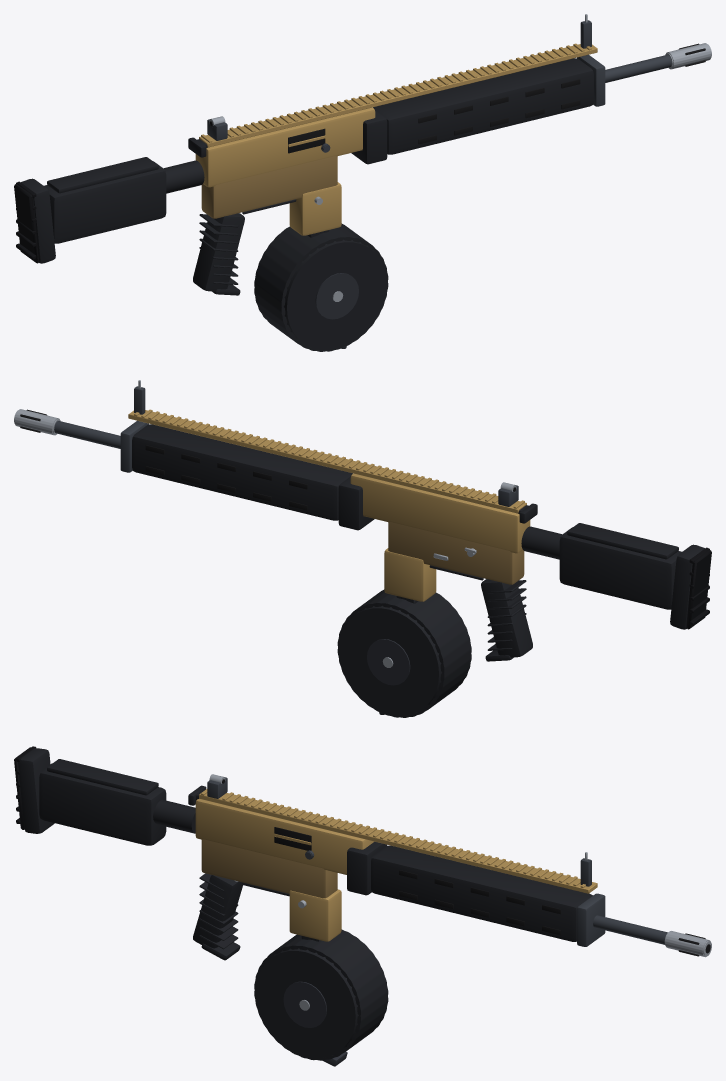
3 views of the same model, one above another, from view 1: azimuth 30°, elevation 25°; view 2: azimuth 150°, elevation 25°; view 3: azimuth 330°, elevation 25° (orthographic).
Visible parts, largest first — view 1: ar7_body, mag_drum; view 2: ar7_body, mag_drum; view 3: ar7_body, mag_drum.
Part boxes in pixels (box(x1,y1,x2,y2)): ar7_body: box(14, 14, 711, 295); mag_drum: box(254, 223, 388, 351); ar7_body: box(14, 380, 711, 661); mag_drum: box(337, 589, 471, 717); ar7_body: box(14, 746, 711, 960); mag_drum: box(254, 929, 388, 1060).
Bounding box in the file's own units: 0.9592 × 0.3607 × 0.082.
